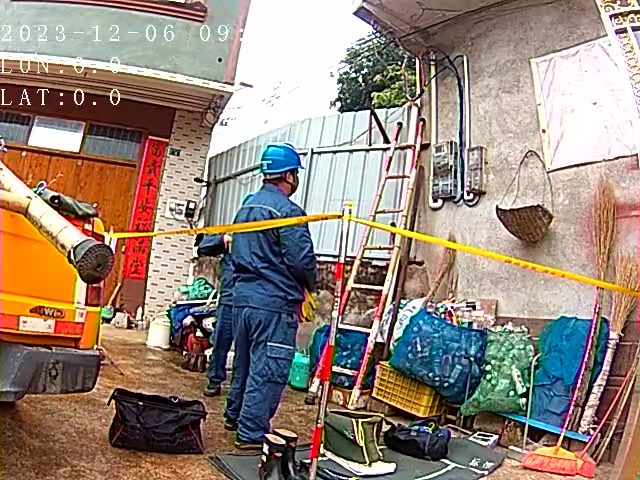halt: (262, 146, 307, 196)
inear: (284, 172, 300, 191)
